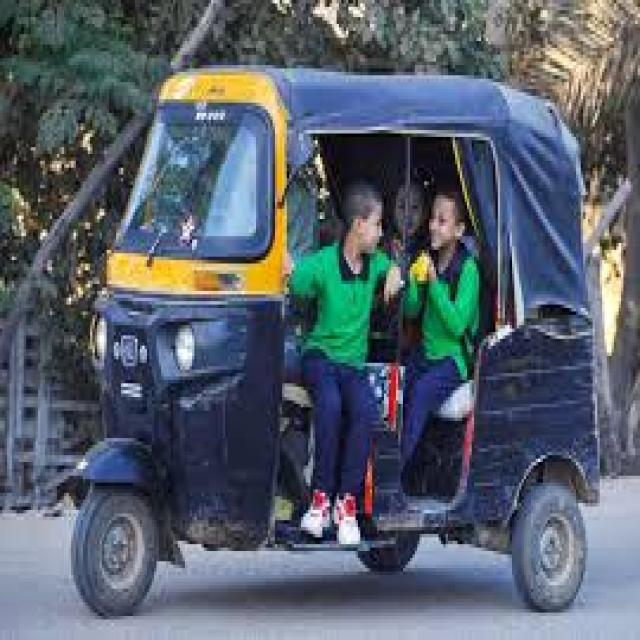tuktuk: (45, 14, 614, 636)
